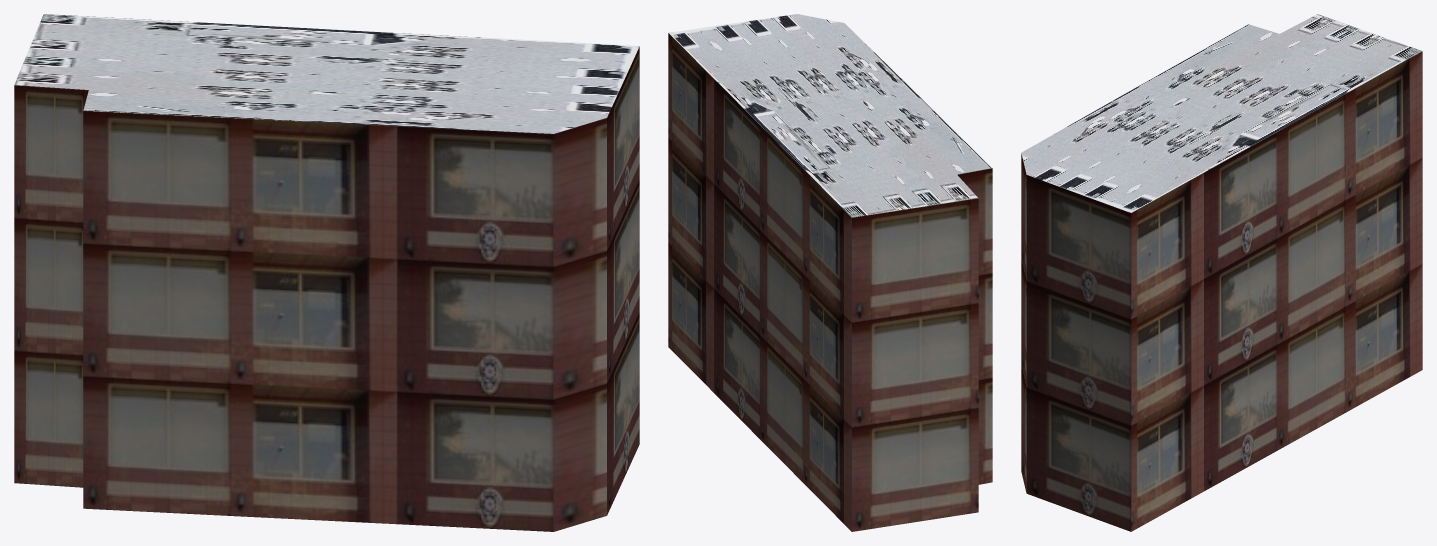
The model's file is ResTex__942.fbx.
3 views of the same model, side by side, from view 1: azimuth 30°, elevation 25°; view 2: azimuth 150°, elevation 25°; view 3: azimuth 270°, elevation 25° (orthographic). The views are drawn at different scales.
Parts seen in each view (by area): view 1: CityEngineMaterial_13_m, CityEngineMaterial_4_m; view 2: CityEngineMaterial_13_m, CityEngineMaterial_4_m; view 3: CityEngineMaterial_13_m, CityEngineMaterial_4_m.
Boxes of the visible parts, <box> form: CityEngineMaterial_13_m: <box>14,47,639,531</box>; CityEngineMaterial_4_m: <box>14,14,639,133</box>; CityEngineMaterial_13_m: <box>668,33,992,531</box>; CityEngineMaterial_4_m: <box>669,14,991,217</box>; CityEngineMaterial_13_m: <box>1021,51,1422,531</box>; CityEngineMaterial_4_m: <box>1021,14,1422,212</box>.
Size of the model in its own units: 12.05 by 9 by 10.27.
Materials: 2 (2 with a texture image).
